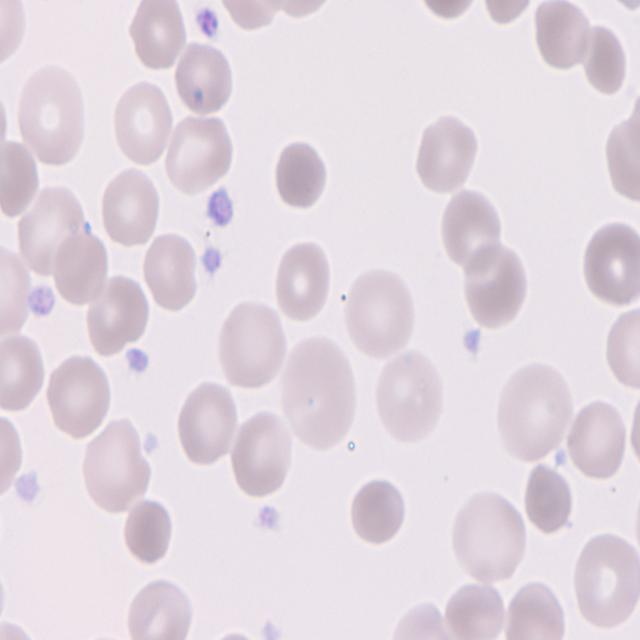Platelets: (8, 264, 43, 328), (202, 184, 235, 232), (30, 282, 58, 322), (196, 239, 223, 279), (461, 322, 486, 357)
RBC: (282, 339, 359, 453), (493, 355, 572, 463), (450, 482, 529, 582), (16, 61, 90, 166), (77, 414, 150, 516), (344, 260, 418, 360), (370, 348, 444, 446), (570, 527, 639, 632), (218, 299, 290, 395), (164, 111, 239, 198), (460, 238, 530, 328), (438, 188, 509, 276), (46, 352, 115, 441), (231, 410, 296, 502), (111, 79, 176, 167), (578, 218, 640, 310), (415, 110, 483, 192), (179, 381, 241, 470), (570, 394, 632, 481), (99, 166, 162, 250), (272, 238, 332, 324), (88, 274, 152, 354), (174, 37, 236, 118), (138, 228, 200, 308), (125, 574, 197, 640), (602, 100, 640, 208), (442, 576, 508, 638), (504, 578, 569, 640), (532, 0, 588, 68), (131, 0, 187, 68), (0, 335, 46, 417), (606, 301, 640, 399), (0, 232, 31, 339), (0, 408, 25, 498), (0, 1, 28, 69), (478, 0, 534, 27)
Spherocyte: (272, 136, 331, 211), (521, 458, 576, 538), (348, 473, 407, 543), (120, 494, 174, 568)
